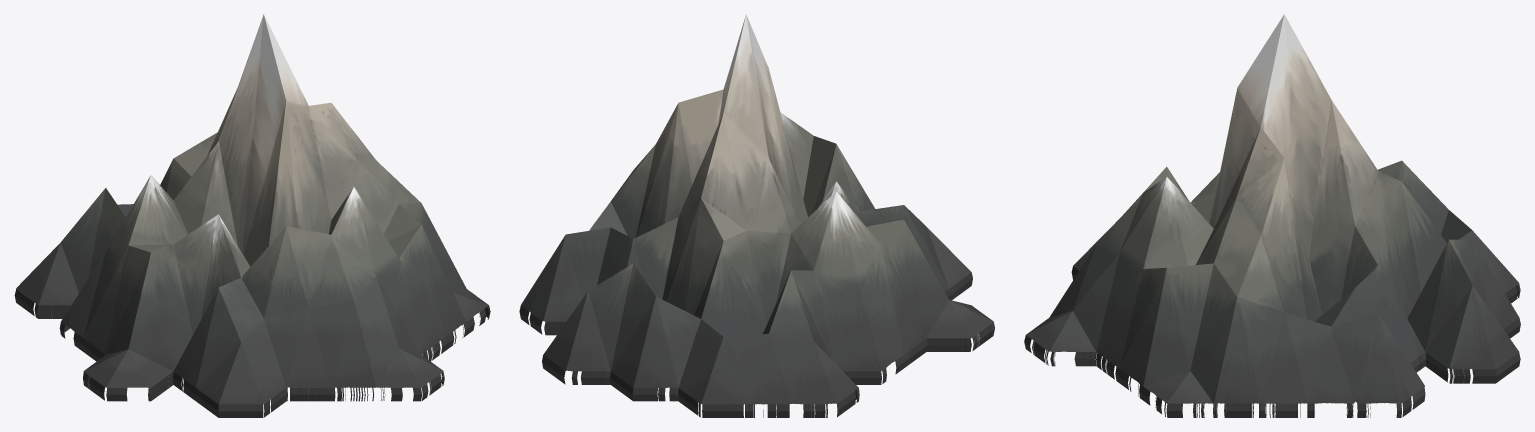
File: mountain_final.fbx
The picture shows the model from 3 angles, left to right: view 1: azimuth 30°, elevation 25°; view 2: azimuth 150°, elevation 25°; view 3: azimuth 270°, elevation 25°; orthographic projection. The views are drawn at different scales.
Parts seen in each view (by area): view 1: Circle; view 2: Circle; view 3: Circle.
Boxes of the visible parts, x1=… form: Circle: x1=14, y1=14, x2=490, y2=417; Circle: x1=519, y1=14, x2=994, y2=417; Circle: x1=1024, y1=14, x2=1520, y2=417.
Bounding box in the file's own units: 120 × 93.26 × 132.
